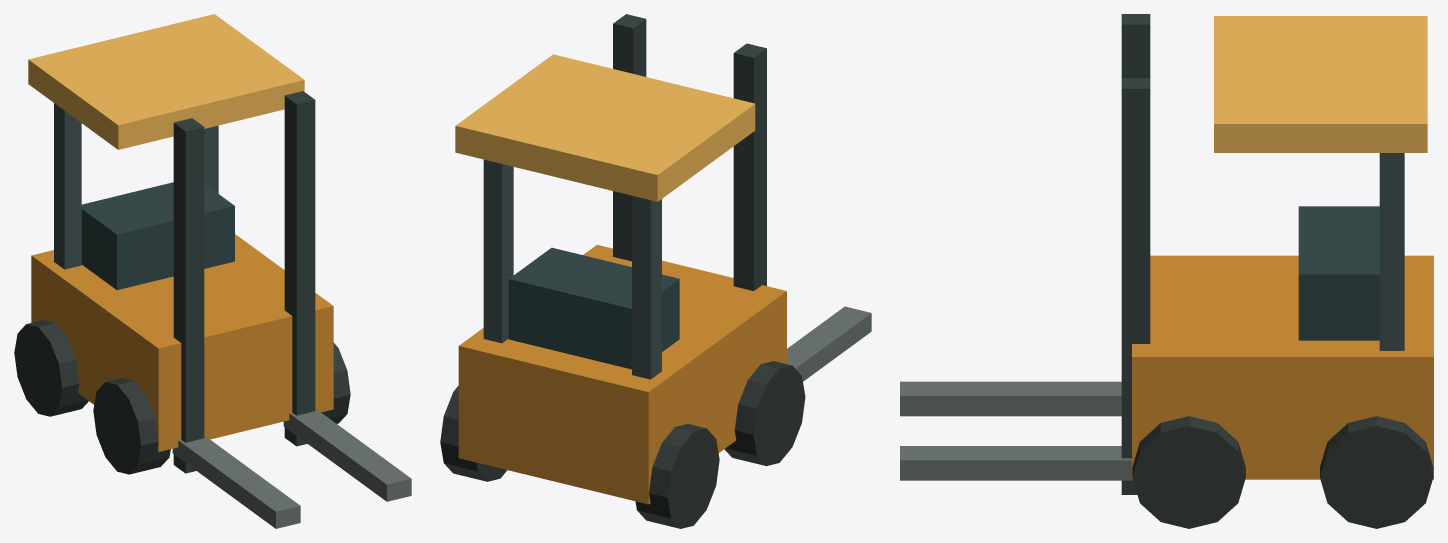
File: WarehouseRecoveryTruck.glb
3 renders of one model, left to right at view 1: azimuth 30°, elevation 25°; view 2: azimuth 150°, elevation 25°; view 3: azimuth 270°, elevation 25°, orthographic. The views are drawn at different scales.
Parts seen in each view (by area): view 1: Forklift · Box 001.001, Forklift · Box 009.001, Forklift · Box 002.001, Forklift · Box 007.001, Forklift · Box 004.001, Forklift · Cylinder 011.001, Forklift · Cylinder 010.001, Forklift · Box 005.001, Forklift · Box 008.001, Forklift · Box 003.001, Forklift · Cylinder 013.001, Forklift · Box 006.001; view 2: Forklift · Box 001.001, Forklift · Box 009.001, Forklift · Box 002.001, Forklift · Box 004.001, Forklift · Cylinder 010.001, Forklift · Cylinder 011.001, Forklift · Box 003.001, Forklift · Box 006.001, Forklift · Box 005.001, Forklift · Box 007.001, Forklift · Cylinder 012.001; view 3: Forklift · Box 001.001, Forklift · Box 009.001, Forklift · Box 002.001, Forklift · Cylinder 013.001, Forklift · Cylinder 012.001, Forklift · Box 007.001, Forklift · Box 008.001, Forklift · Box 005.001, Forklift · Box 006.001, Forklift · Box 004.001.
Boxes of the visible parts, x1,y1,x2,y2 form: Forklift · Box 001.001: (31, 234, 333, 451); Forklift · Box 009.001: (28, 14, 304, 149); Forklift · Box 002.001: (81, 182, 234, 290); Forklift · Box 007.001: (284, 91, 315, 446); Forklift · Box 004.001: (173, 118, 204, 473); Forklift · Cylinder 011.001: (93, 378, 170, 474); Forklift · Cylinder 010.001: (14, 320, 88, 416); Forklift · Box 005.001: (172, 435, 300, 528); Forklift · Box 008.001: (283, 408, 411, 501); Forklift · Box 003.001: (54, 103, 81, 269); Forklift · Cylinder 013.001: (321, 342, 350, 423); Forklift · Box 006.001: (204, 125, 218, 193); Forklift · Box 001.001: (458, 244, 786, 504); Forklift · Box 009.001: (455, 54, 755, 201); Forklift · Box 002.001: (508, 247, 679, 369); Forklift · Box 004.001: (733, 43, 766, 290); Forklift · Cylinder 010.001: (635, 424, 719, 528); Forklift · Cylinder 011.001: (724, 361, 805, 465); Forklift · Box 003.001: (632, 195, 661, 379); Forklift · Box 006.001: (483, 159, 513, 343); Forklift · Box 005.001: (787, 306, 871, 381); Forklift · Box 007.001: (613, 14, 646, 261); Forklift · Cylinder 012.001: (440, 386, 507, 481); Forklift · Box 001.001: (1132, 255, 1433, 479); Forklift · Box 009.001: (1214, 16, 1427, 152); Forklift · Box 002.001: (1298, 206, 1379, 340); Forklift · Cylinder 013.001: (1132, 416, 1245, 528); Forklift · Cylinder 012.001: (1320, 416, 1433, 528); Forklift · Box 007.001: (1121, 78, 1150, 494); Forklift · Box 008.001: (900, 446, 1132, 480); Forklift · Box 005.001: (900, 381, 1121, 416); Forklift · Box 006.001: (1379, 153, 1404, 350); Forklift · Box 004.001: (1121, 14, 1150, 78).
Size of the model in its own units: 0.551 by 0.883 by 1.02.
